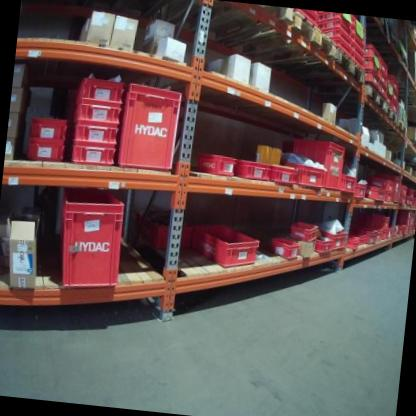pallet: (219, 1, 343, 71), (144, 0, 296, 53), (266, 28, 371, 84), (291, 78, 390, 118), (381, 103, 399, 127), (398, 123, 410, 138)
small_load_carrier: (49, 180, 127, 294), (117, 82, 183, 172), (186, 218, 261, 270), (278, 136, 344, 194), (132, 201, 194, 253), (63, 71, 124, 106), (65, 95, 122, 129), (62, 119, 121, 147), (280, 158, 327, 192), (66, 141, 119, 168), (26, 113, 71, 143), (24, 138, 64, 165), (317, 225, 348, 257), (196, 152, 234, 178), (265, 233, 300, 260), (234, 157, 271, 181), (317, 27, 354, 47), (317, 17, 352, 38), (288, 9, 321, 31), (362, 175, 397, 195), (288, 221, 319, 243), (268, 164, 297, 187), (349, 222, 375, 246), (361, 42, 382, 67), (318, 11, 355, 25), (330, 38, 352, 60), (313, 237, 336, 258), (344, 230, 367, 251), (388, 175, 404, 205), (362, 70, 380, 91), (341, 173, 357, 196), (367, 185, 386, 203), (362, 58, 381, 76), (370, 212, 391, 228), (349, 53, 366, 71), (350, 41, 365, 61), (368, 222, 382, 242), (387, 74, 399, 93), (346, 236, 361, 251), (349, 36, 364, 51), (354, 17, 367, 34), (355, 181, 366, 201), (388, 84, 400, 101), (383, 91, 394, 109), (353, 28, 366, 43), (381, 227, 393, 243), (378, 70, 389, 87), (381, 191, 393, 206), (380, 56, 389, 75), (391, 99, 401, 116), (396, 223, 408, 237), (387, 225, 398, 240), (379, 84, 387, 103), (380, 227, 389, 240)
